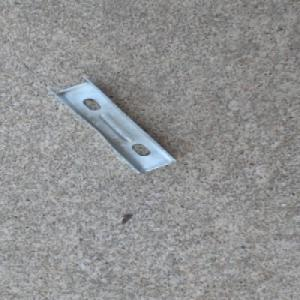ClampPart: (45, 75, 177, 174)
